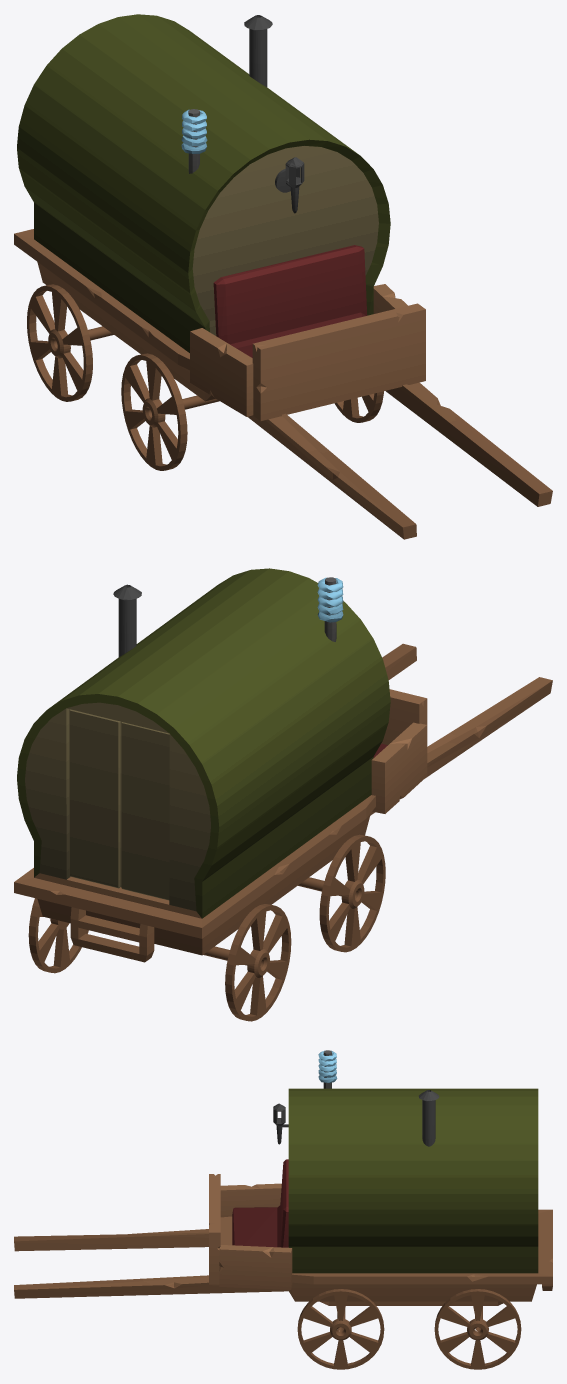
The model's file is Caravan.fbx.
3 views of the same model, one above another, from view 1: azimuth 30°, elevation 25°; view 2: azimuth 150°, elevation 25°; view 3: azimuth 270°, elevation 25° (orthographic). The views are drawn at different scales.
Visible parts, largest first — view 1: Shell, WoodBody, FrontRightWheel, BackRightWheel, Cube.002, Chimey, TeslaCoil, Lamp, FrontLeftWheel, Cube.001; view 2: Shell, WoodBody, LeftDoor, RightDoor, BackRightWheel, FrontRightWheel, Cube.002, BackLeftWheel, Chimey, TeslaCoil; view 3: Shell, WoodBody, FrontLeftWheel, BackLeftWheel, Cube.001, Cube.002, Chimey, TeslaCoil.
Part boxes in pixels (x1,y1,x2,y2): Shell: (17,14,390,352); WoodBody: (14,229,552,539); FrontRightWheel: (121,353,187,470); BackRightWheel: (27,284,92,401); Cube.002: (190,328,253,416); Chimey: (244,15,272,86); TeslaCoil: (181,109,207,173); Lamp: (275,157,304,213); FrontLeftWheel: (334,391,383,422); Cube.001: (373,284,407,313); Shell: (17,568,390,918); WoodBody: (14,643,552,962); LeftDoor: (69,709,121,888); RightDoor: (121,722,169,900); BackRightWheel: (225,904,291,1021); FrontRightWheel: (319,834,385,952); Cube.002: (371,722,427,813); BackLeftWheel: (28,898,88,973); Chimey: (113,584,141,656); TeslaCoil: (317,577,343,641); Shell: (288,1088,538,1273); WoodBody: (14,1159,552,1305); FrontLeftWheel: (297,1289,384,1369); BackLeftWheel: (434,1289,521,1369); Cube.001: (219,1245,292,1289); Cube.002: (220,1183,281,1217); Chimey: (418,1090,439,1146); TeslaCoil: (318,1050,337,1088).
Size of the model in its own units: 320 by 536 by 983.
